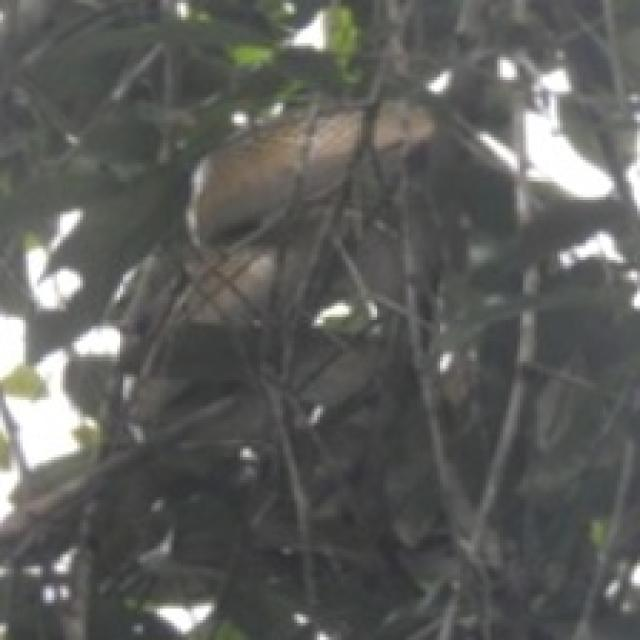red-tailed green ratsnake: (186, 109, 363, 243)
